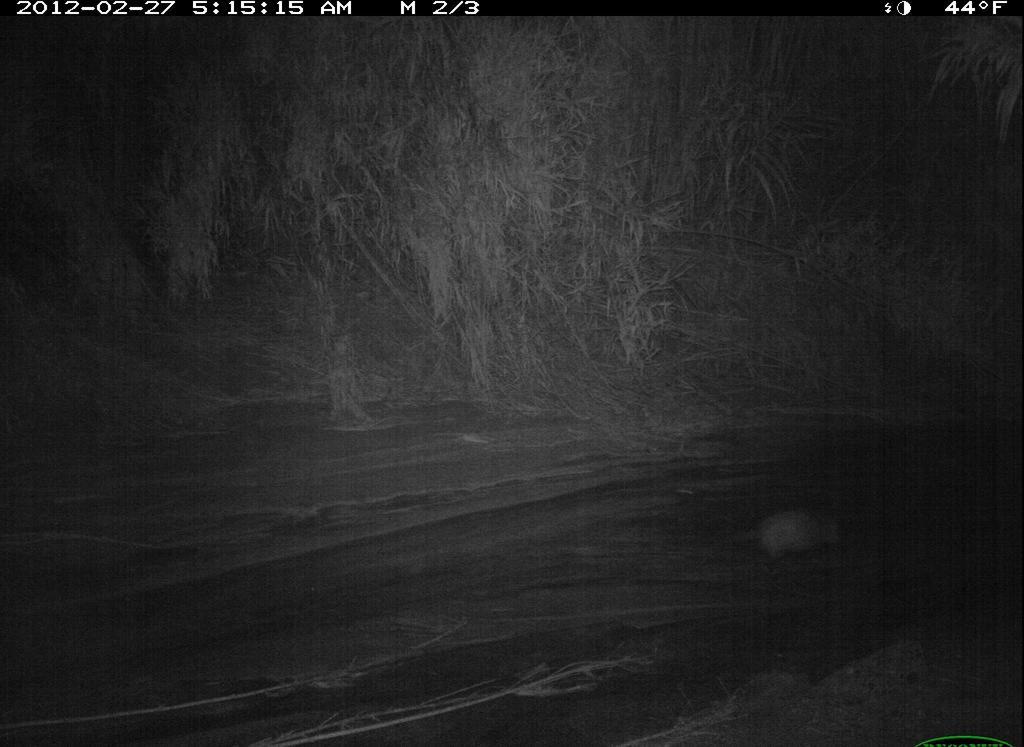opossum: (710, 500, 865, 574)
